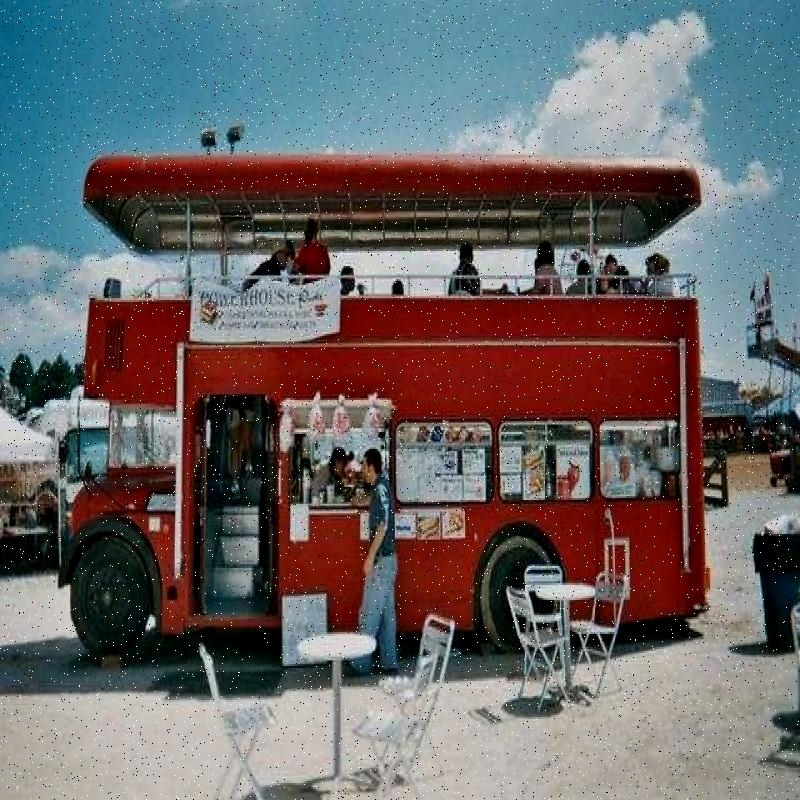bus: (66, 137, 702, 668)
